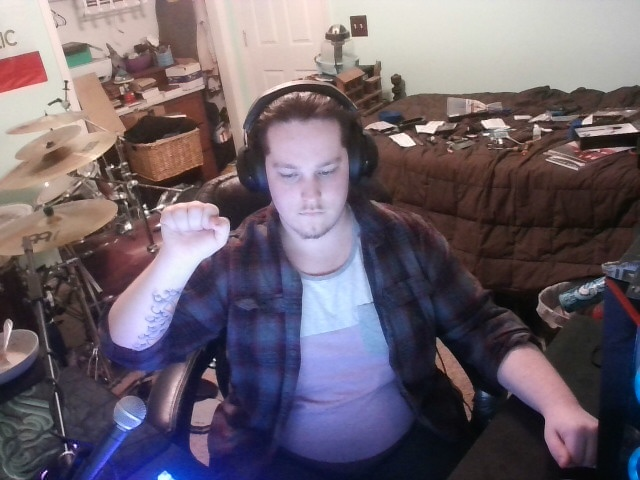yes: (144, 194, 246, 285)
